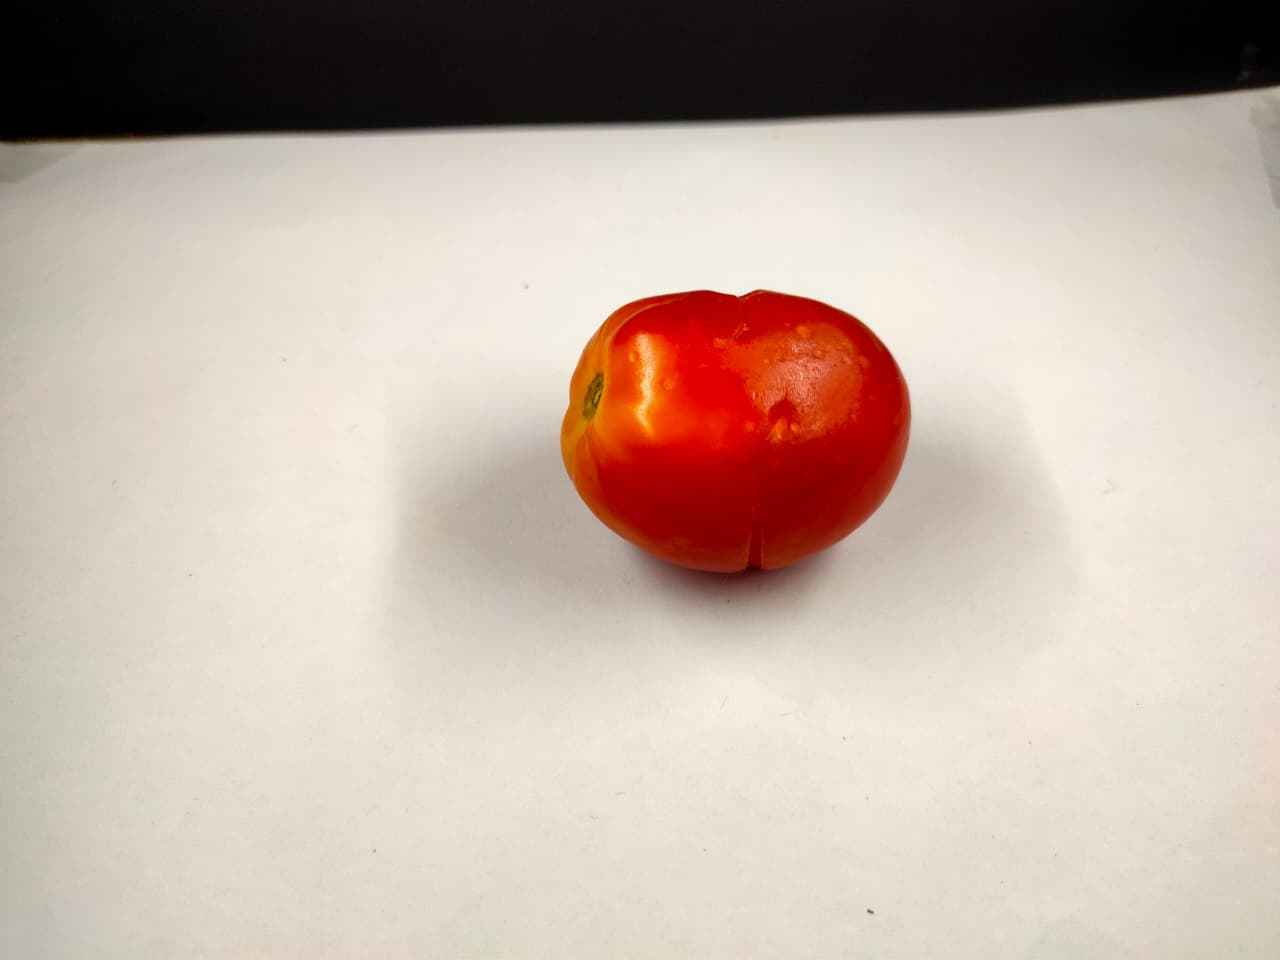damaged: (554, 286, 922, 587)
